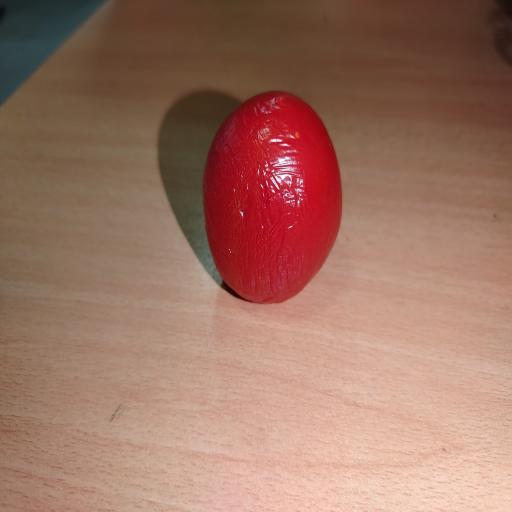spoiled: (203, 92, 342, 303)
